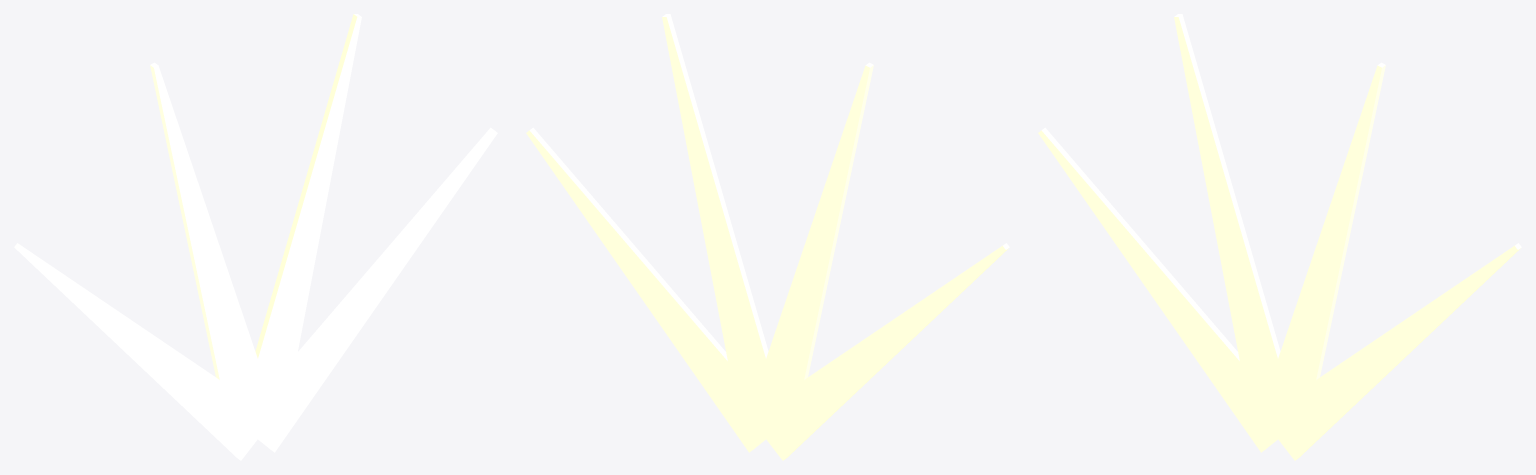
File: dc_abs_wings.glb
3 views of the same model, side by side, from view 1: azimuth 30°, elevation 25°; view 2: azimuth 150°, elevation 25°; view 3: azimuth 330°, elevation 25° (orthographic).
Visible parts, largest first — view 1: part.dc_abs_wings; view 2: part.dc_abs_wings; view 3: part.dc_abs_wings.
Boxes of the visible parts, x1=… form: part.dc_abs_wings: x1=14, y1=14, x2=497, y2=460; part.dc_abs_wings: x1=526, y1=14, x2=1009, y2=460; part.dc_abs_wings: x1=1038, y1=14, x2=1521, y2=460.
Bounding box in the file's own units: 0.8545 × 0.7073 × 0.012.
